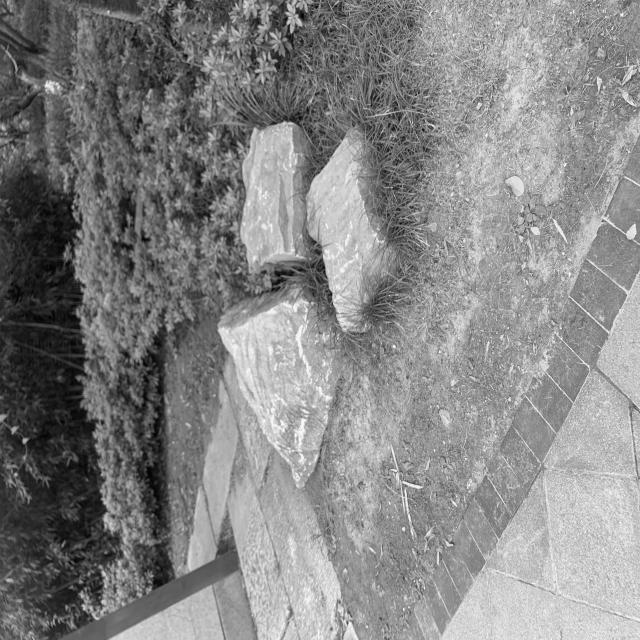Stone: (218, 285, 334, 487), (306, 129, 396, 331), (240, 122, 308, 272)
